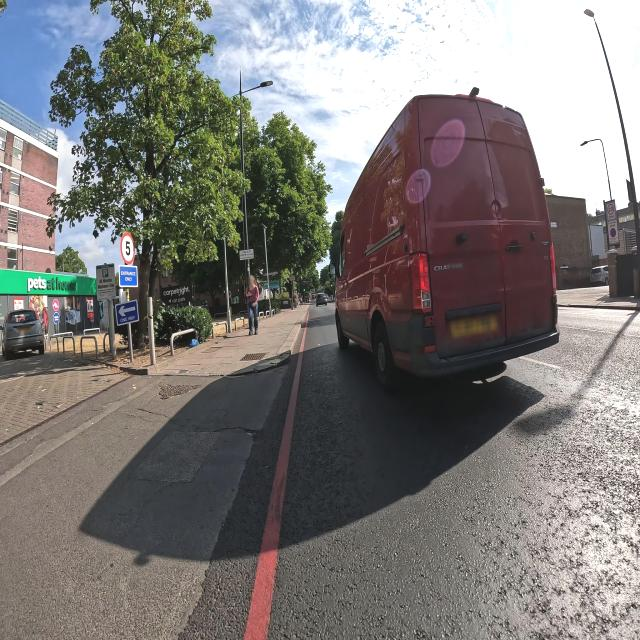car: (0, 306, 46, 361), (590, 265, 609, 286), (315, 292, 327, 307)
